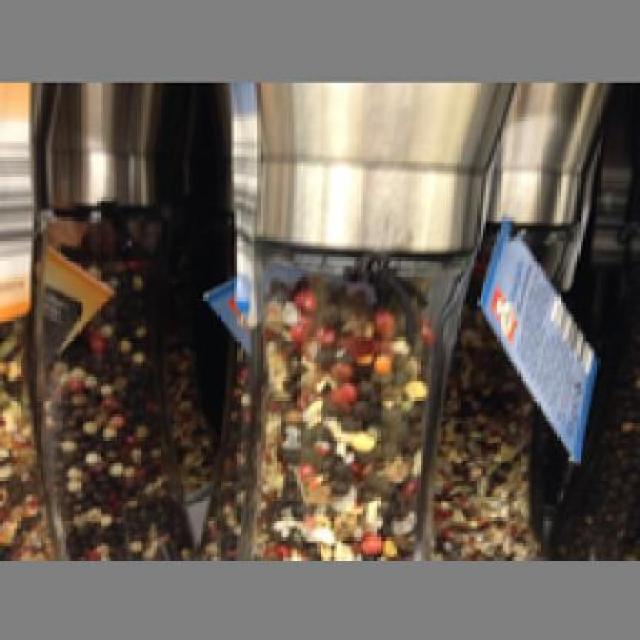Spices: (214, 80, 506, 557), (23, 80, 226, 557)
